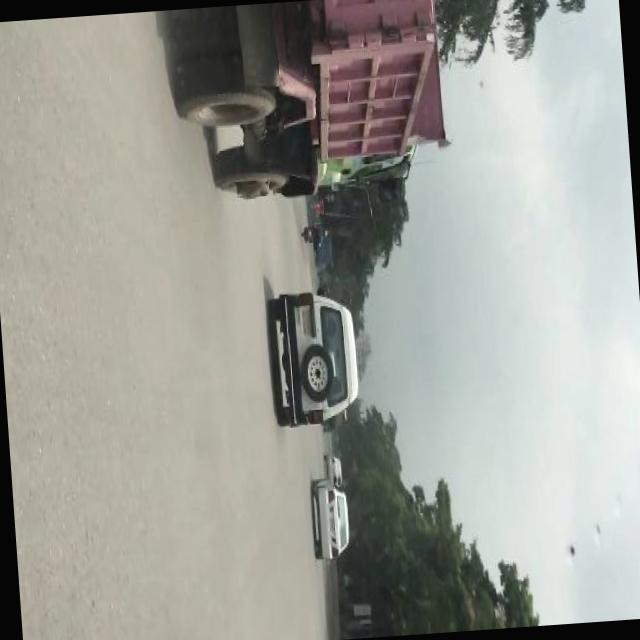bus: (312, 239, 333, 272)
car: (264, 282, 364, 432), (306, 473, 352, 563), (323, 450, 342, 486)
motorcycle: (298, 220, 328, 247)
truck: (163, 0, 458, 215)
